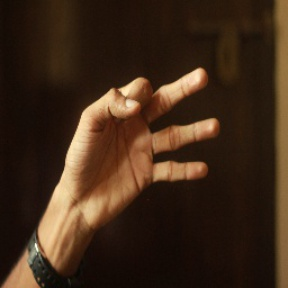K: (68, 64, 220, 206)
